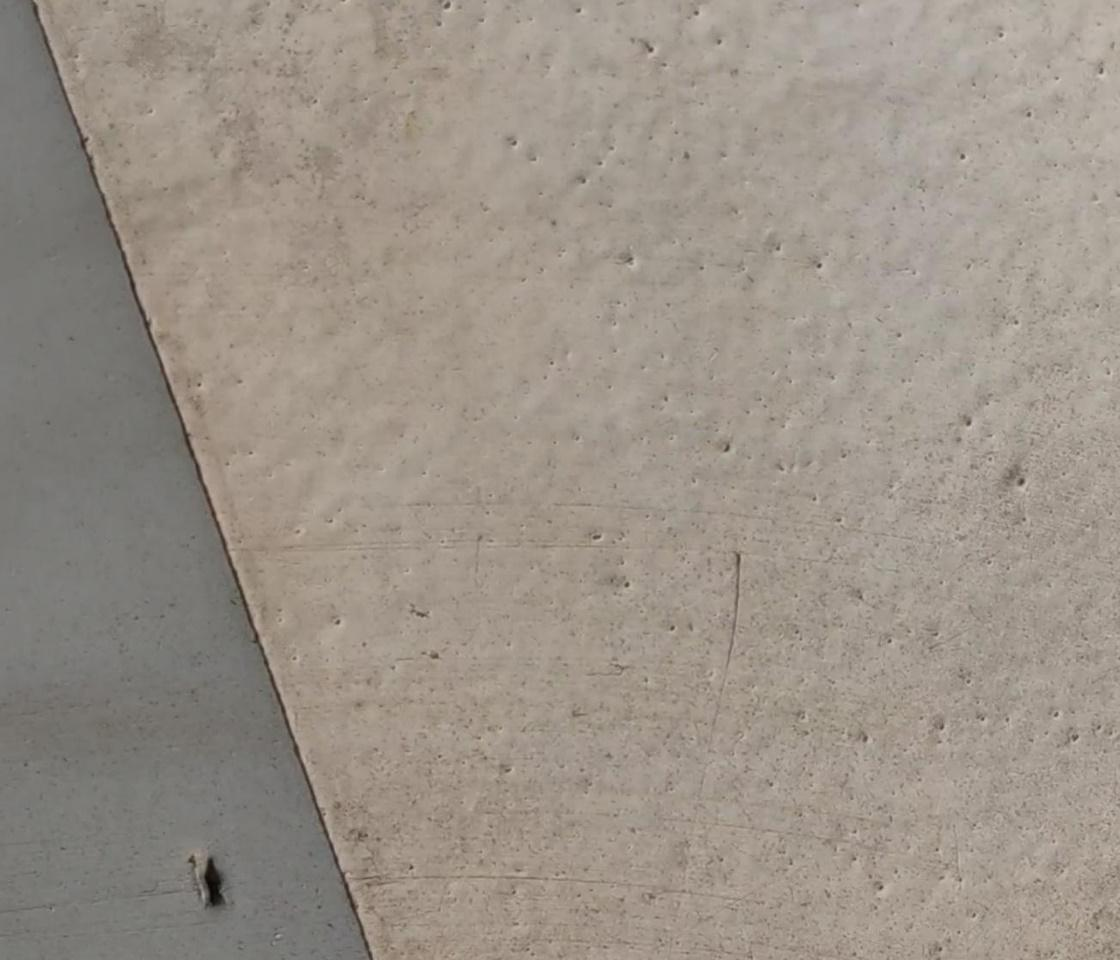scratch: (711, 547, 754, 678)
